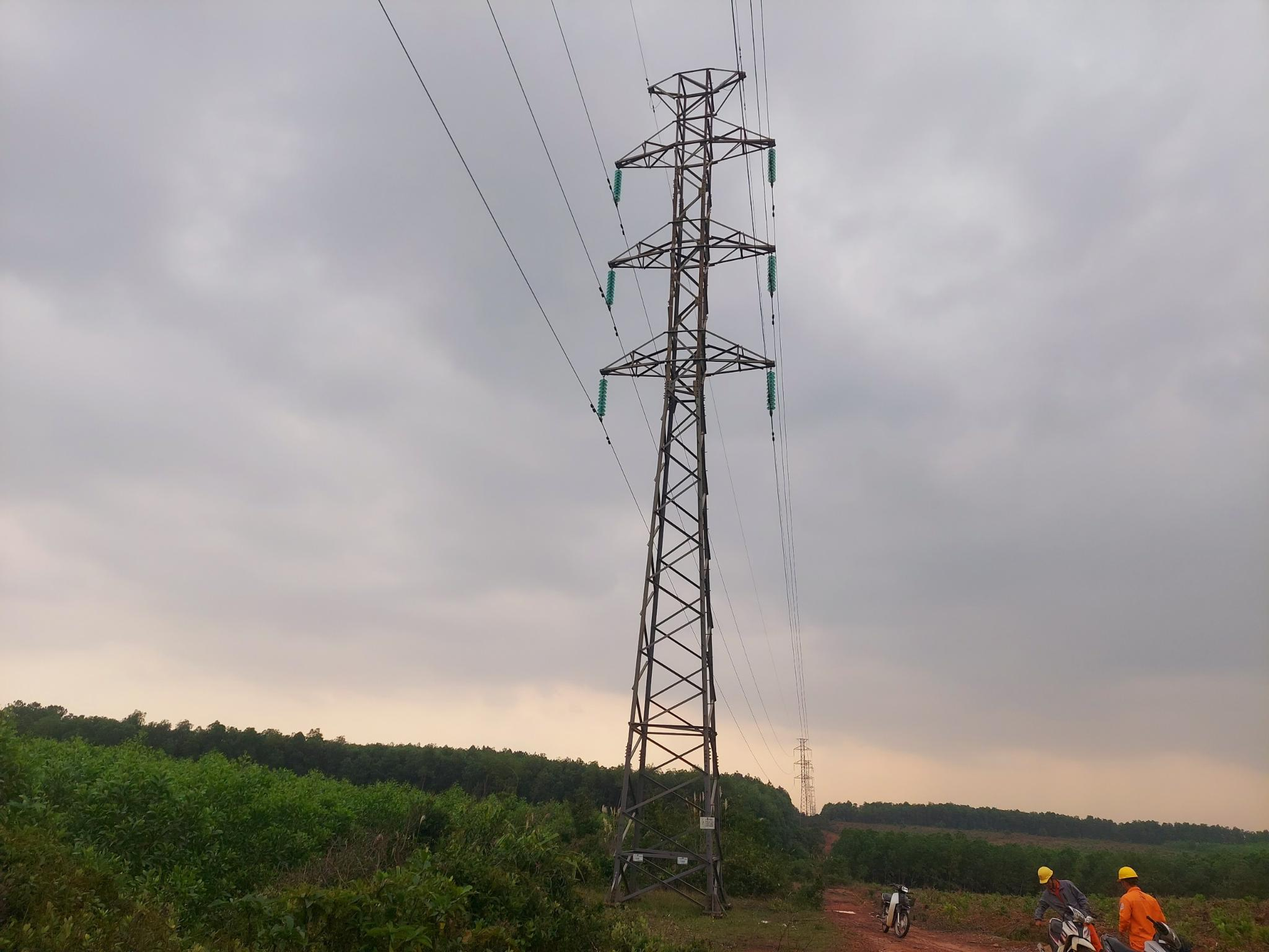tower: (586, 43, 791, 922)
